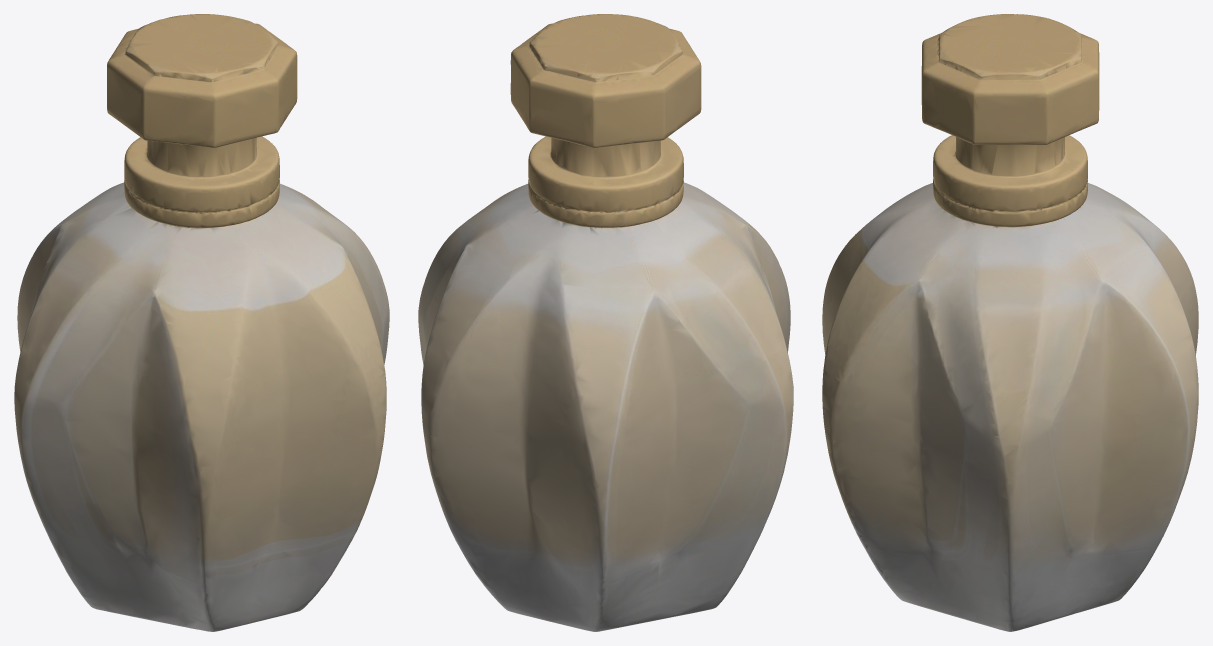
File: perfume_bottle.glb
3 renders of one model, left to right at view 1: azimuth 30°, elevation 25°; view 2: azimuth 150°, elevation 25°; view 3: azimuth 270°, elevation 25°, orthographic.
Parts seen in each view (by area): view 1: mesh_node; view 2: mesh_node; view 3: mesh_node.
Boxes of the visible parts, box(x1,y1,x2,y2) form: mesh_node: box(14, 14, 389, 631); mesh_node: box(418, 14, 793, 631); mesh_node: box(822, 14, 1198, 631).
Size of the model in its own units: 1.36 by 1.9 by 1.21.
Materials: 1 (1 with a texture image).
